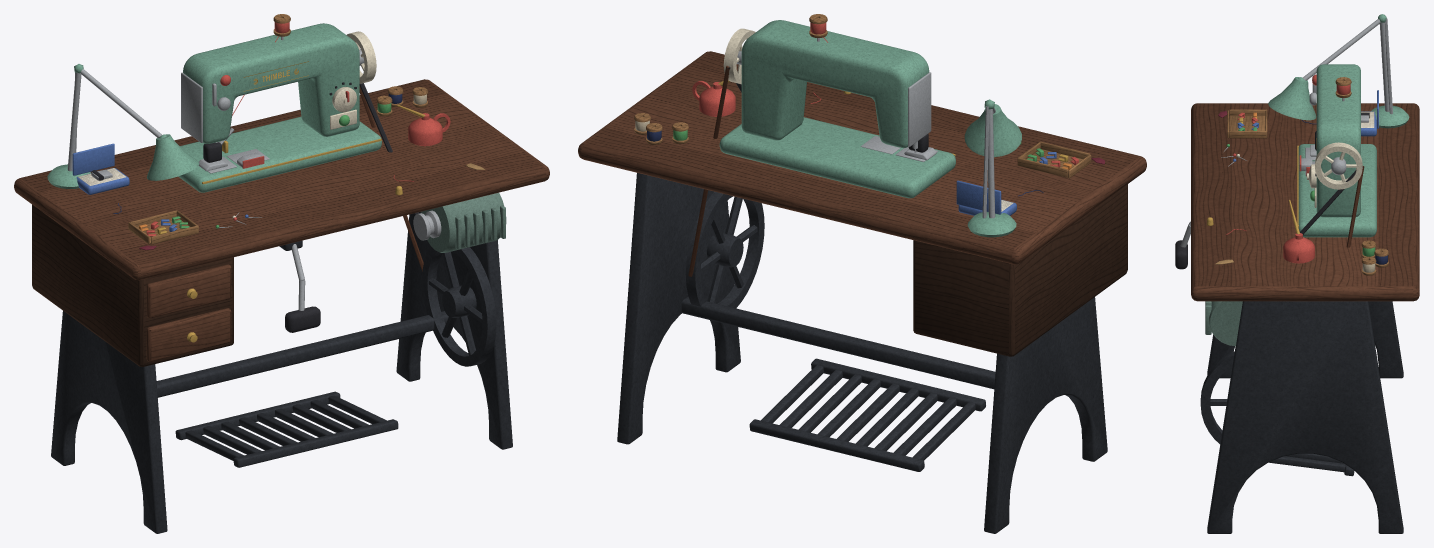
The model's file is sewing_v1.glb.
3 renders of one model, left to right at view 1: azimuth 30°, elevation 25°; view 2: azimuth 150°, elevation 25°; view 3: azimuth 270°, elevation 25°, orthographic. The views are drawn at different scales.
Parts seen in each view (by area): view 1: Base, Base_treadle, Upg_sew_industrial, Upg_shop_lamp, Upg_sew_roller, Upg_sew_clips, Upg_sew_knee, Upg_sew_oiled, Upg_sew_walking_foot; view 2: Base, Base_treadle, Upg_shop_lamp, Upg_sew_clips, Upg_sew_roller, Upg_sew_oiled; view 3: Base, Upg_shop_lamp, Upg_sew_industrial, Base_treadle, Upg_sew_clips, Upg_sew_oiled, Upg_sew_roller, Upg_sew_knee.
Boxes of the visible parts, box(x1,y1,x2,y2) form: Base: box(14, 14, 549, 533); Base_treadle: box(359, 86, 496, 366); Upg_sew_industrial: box(359, 83, 506, 252); Upg_shop_lamp: box(47, 64, 199, 188); Upg_sew_roller: box(72, 143, 129, 194); Upg_sew_clips: box(128, 210, 198, 244); Upg_sew_knee: box(279, 240, 320, 332); Upg_sew_oiled: box(397, 104, 450, 146); Upg_sew_walking_foot: box(198, 127, 234, 171); Base: box(578, 14, 1146, 533); Base_treadle: box(685, 66, 764, 308); Upg_shop_lamp: box(964, 99, 1021, 237); Upg_sew_clips: box(1017, 141, 1091, 178); Upg_sew_roller: box(956, 180, 1016, 215); Upg_sew_oiled: box(692, 80, 735, 116); Base: box(1191, 64, 1419, 533); Upg_shop_lamp: box(1268, 14, 1409, 128); Upg_sew_industrial: box(1205, 167, 1363, 346); Base_treadle: box(1200, 166, 1364, 444); Upg_sew_clips: box(1227, 109, 1267, 138); Upg_sew_oiled: box(1283, 200, 1314, 263); Upg_sew_roller: box(1361, 90, 1378, 136); Upg_sew_knee: box(1175, 221, 1190, 269).
Size of the model in its own units: 1.4 by 1.33 by 0.77.
21 materials, 21 textured.
